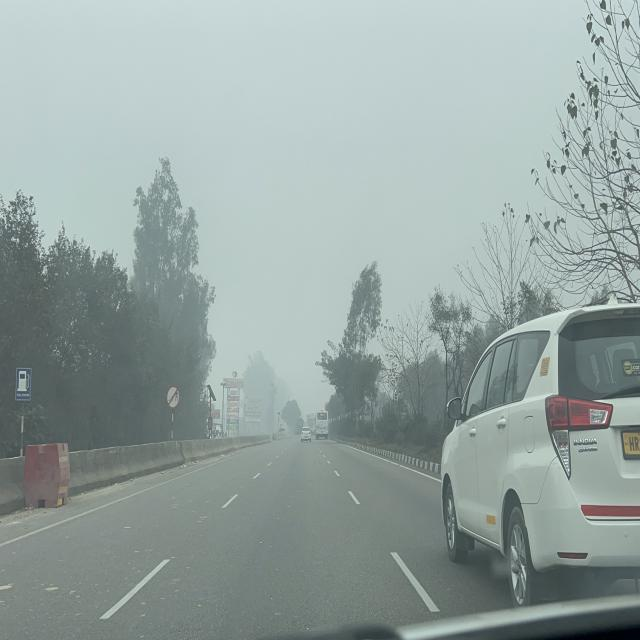INFORMATION: (16, 368, 32, 401)
